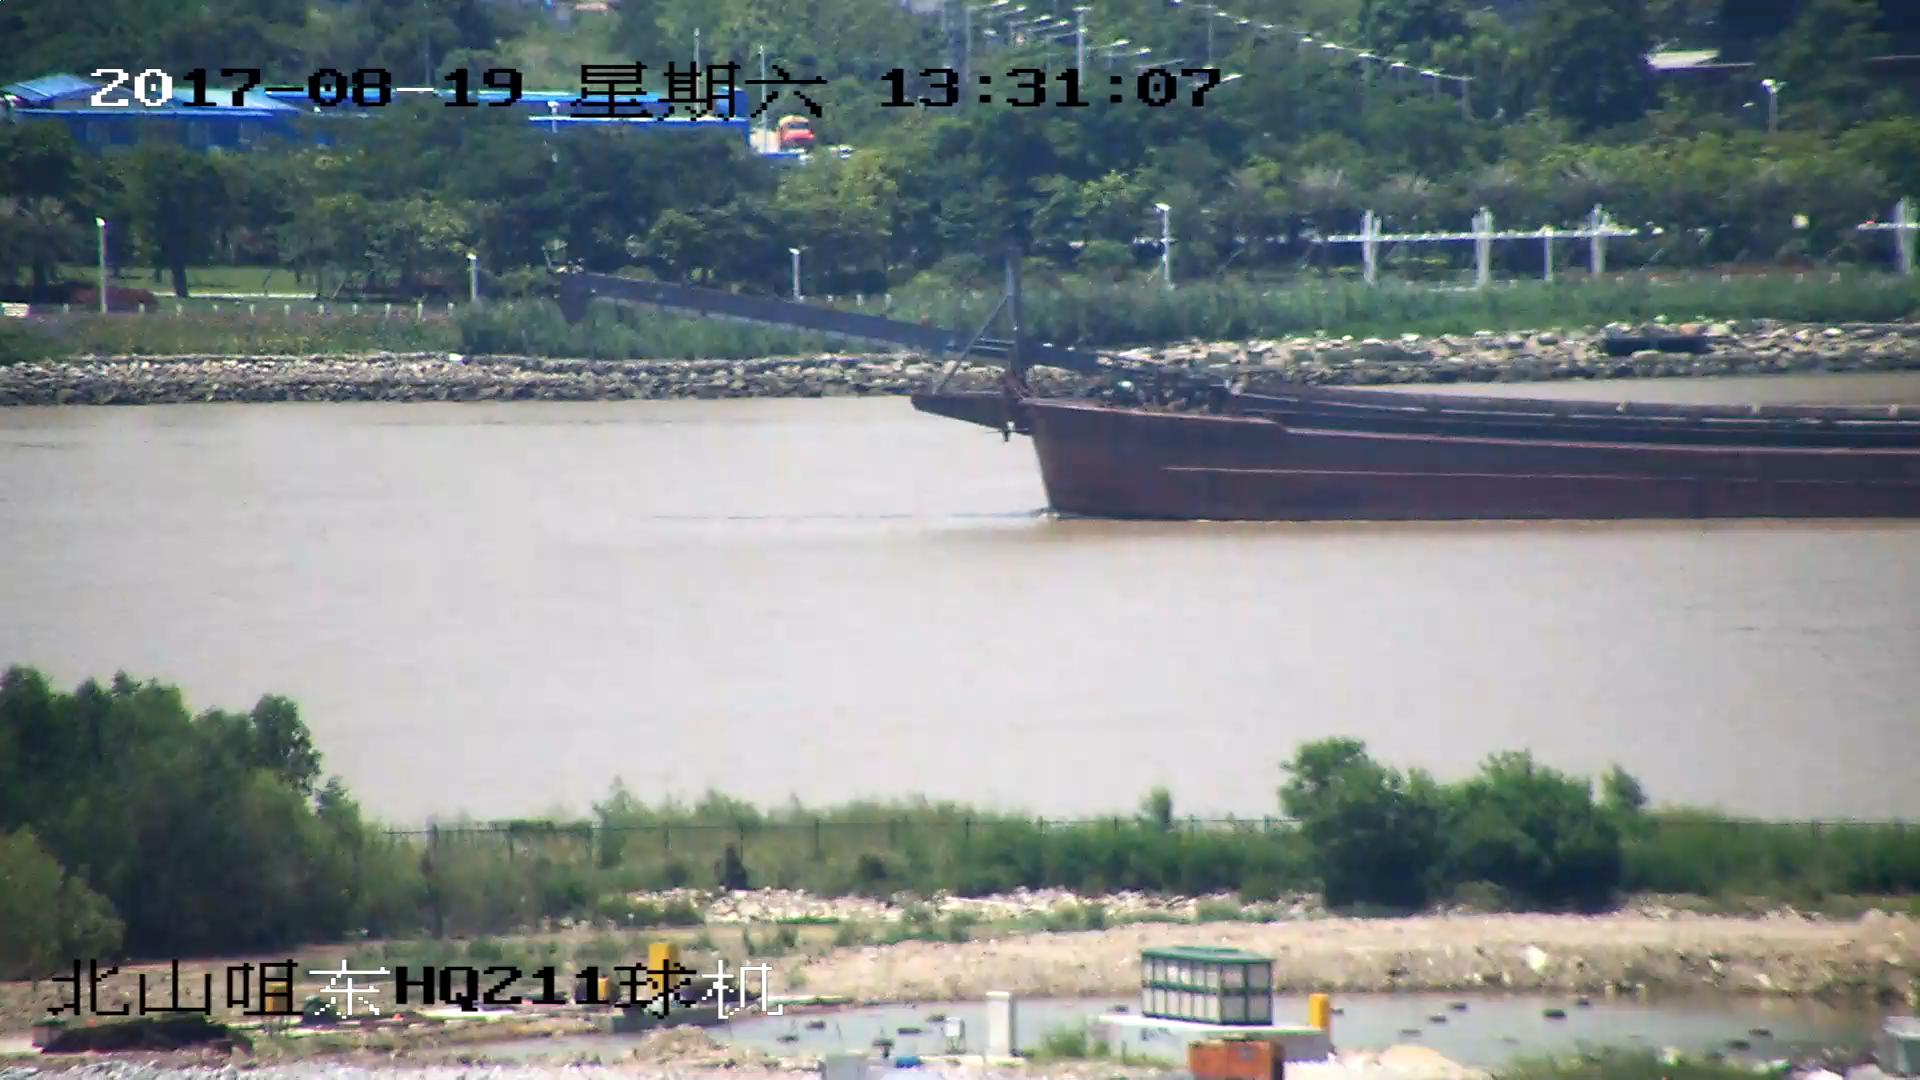bulk cargo carrier: (566, 266, 1920, 523)
